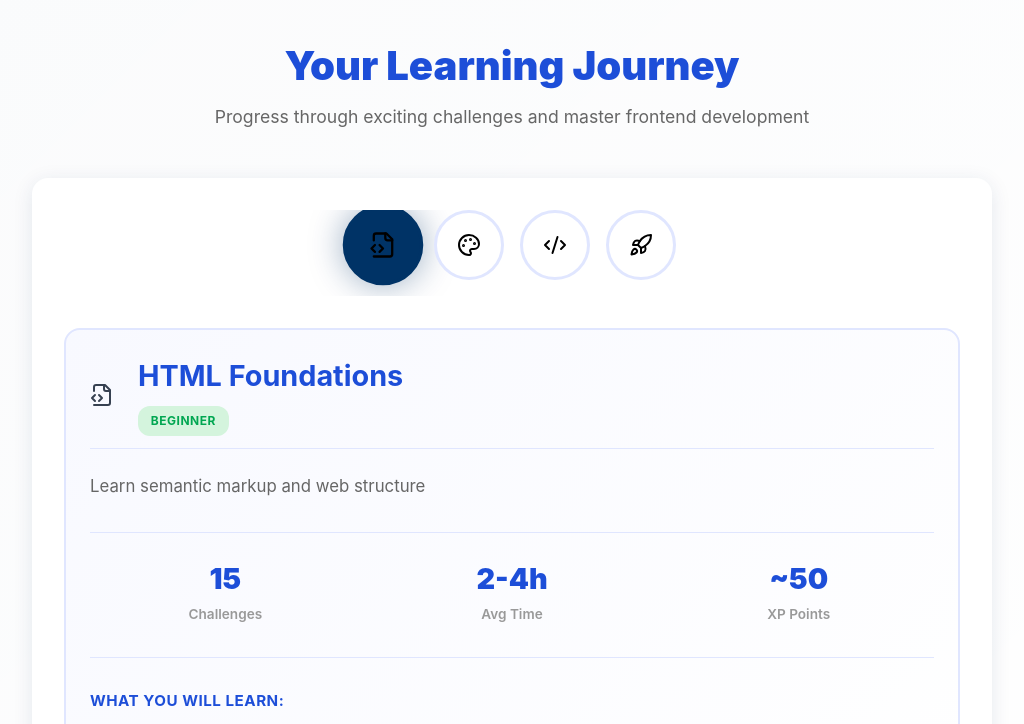
it: public static sections › renders and changes learning journey levels
Expected: the heading "Your Learning Journey" is shown, [284,41,740,90]
Expected: the heading "HTML Foundations" is shown, [138,354,403,398]
Click the 3rd button at (555, 245), box [520,210,590,280]
(page scrolled)
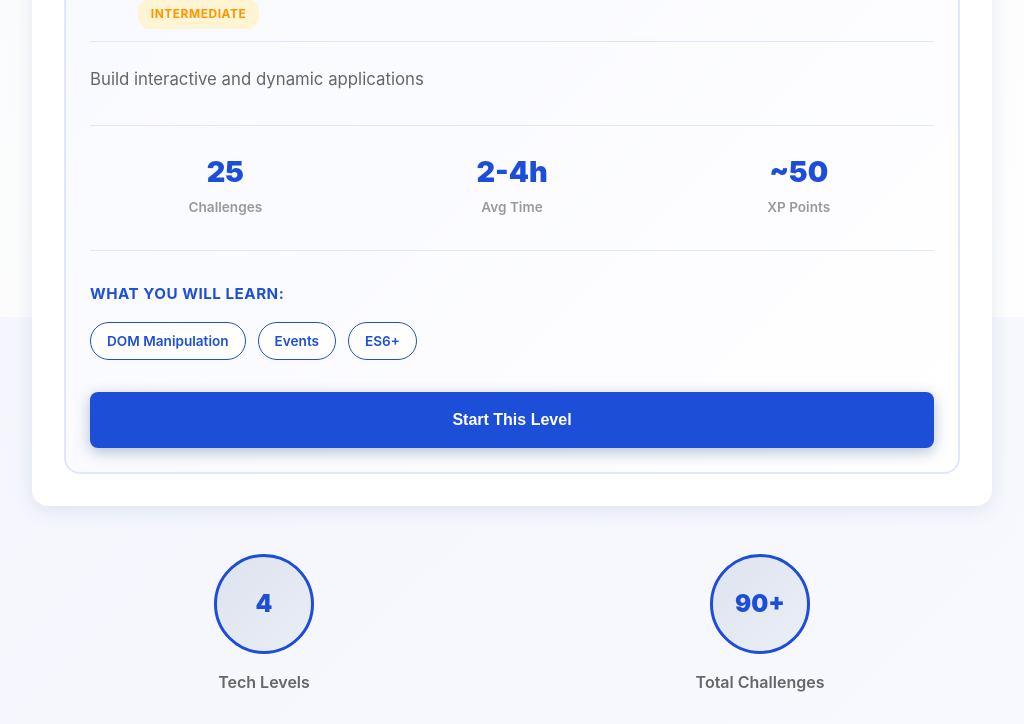
Now the text "DOM Manipulation" is shown, box [90,322,246,360]
